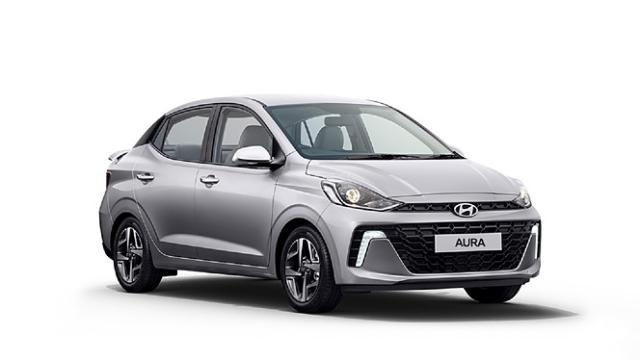hyundai: (98, 94, 542, 314)
